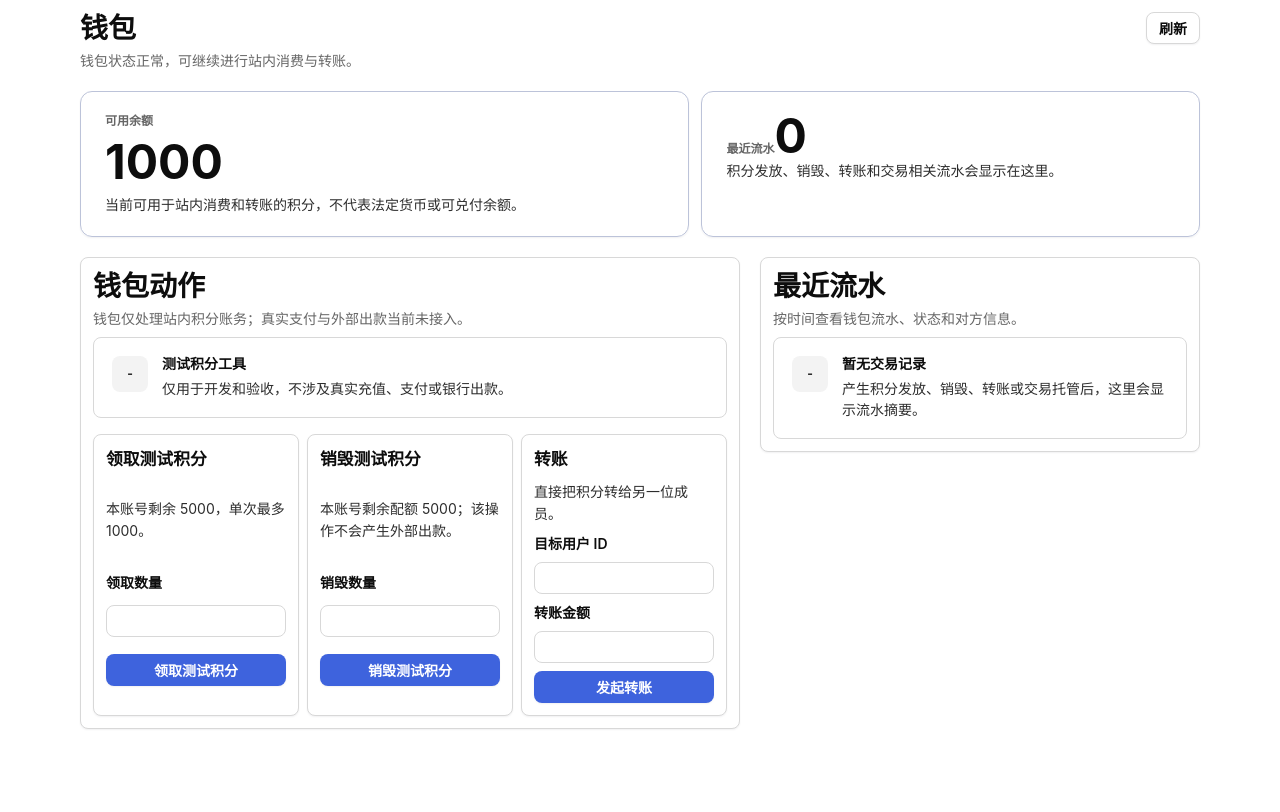
Test: WalletView › rejects a decimal discard amount before opening the confirmation
Type "1.5" into the number field labelled "销毁数量" at (410, 622), box [320, 606, 500, 638]
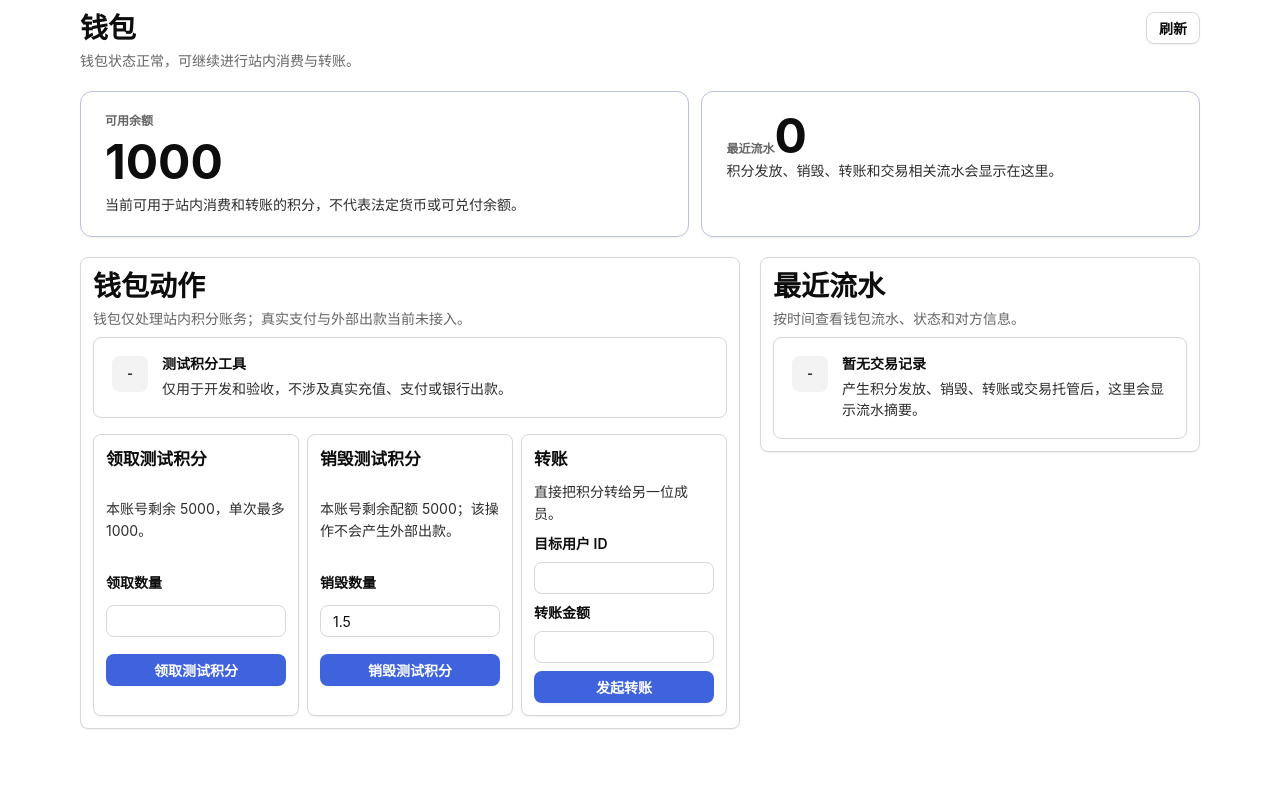
Click the button "销毁测试积分" at (410, 670), box [320, 654, 500, 686]
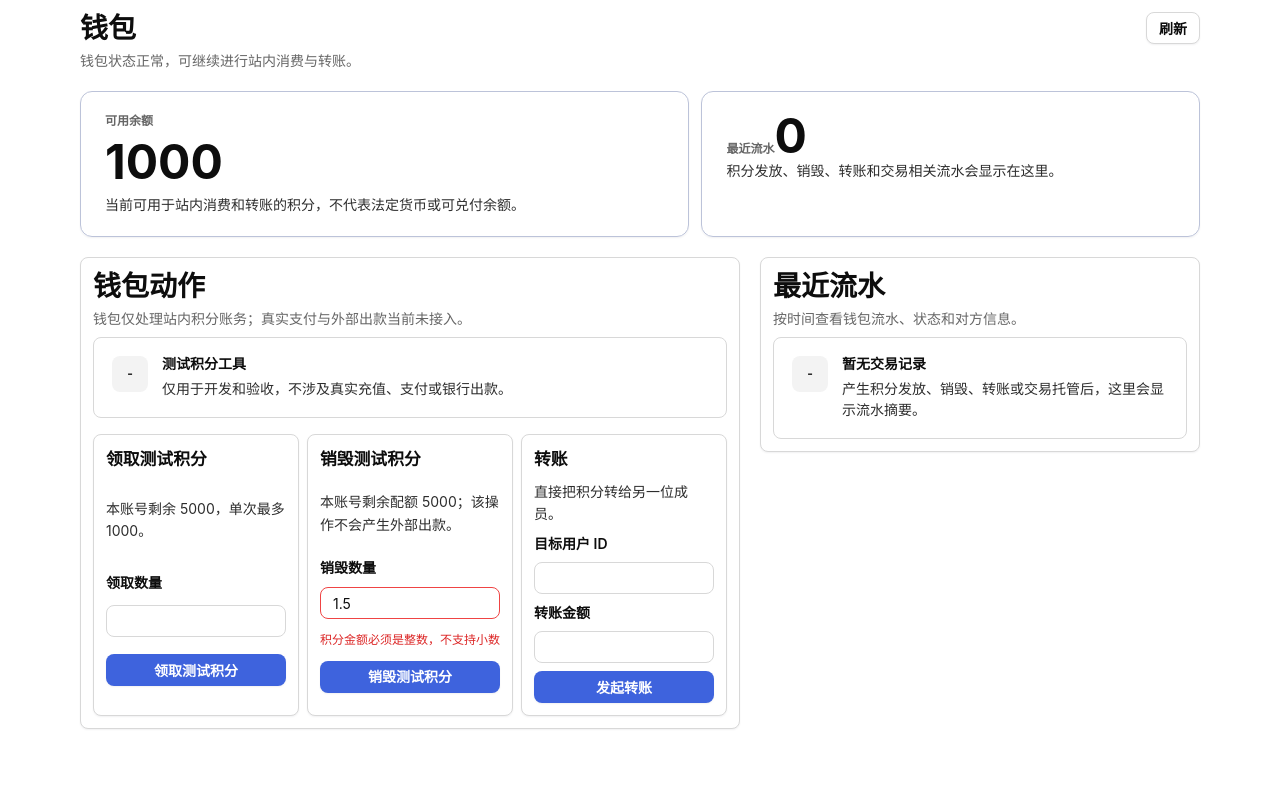
expect the text "积分金额必须是整数，不支持小数" is shown: met, box [320, 631, 500, 653]
